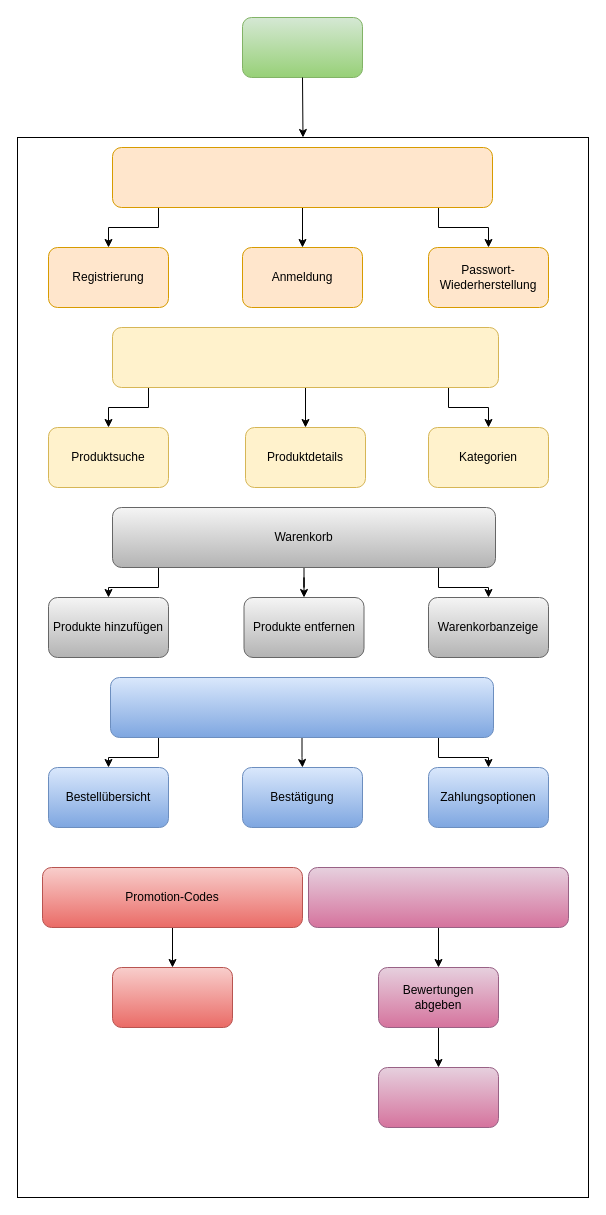
Some shapes in this 606 by 1215 pixel diagram are drawn without their labels. The centre of each missing label's shape, as x and y in pixels:
"Benutzerverwaltung" belongs at point 302,177.
"Bestellprozess" belongs at point 302,707.
"Bewertungen anzeigen" belongs at point 438,1097.
"Einlösen" belongs at point 172,997.
"Kunde" belongs at point 302,47.
"Produktbewertungen" belongs at point 438,897.
"Produktkatalog" belongs at point 305,357.
